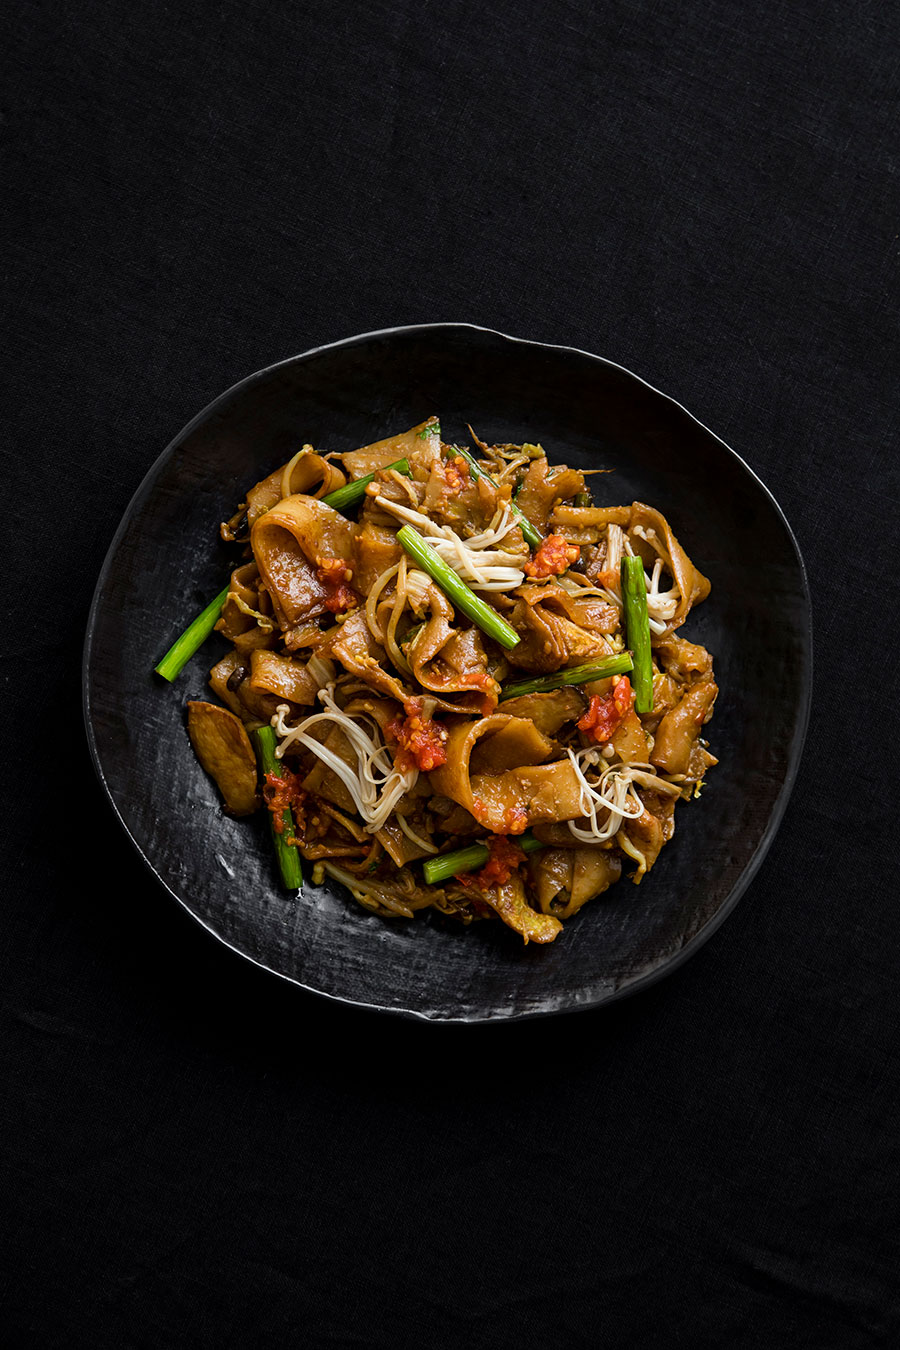Char Kway Teow: (144, 359, 741, 986)
